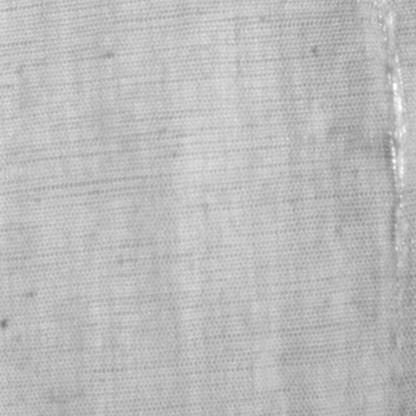thread error: (370, 2, 416, 272)
